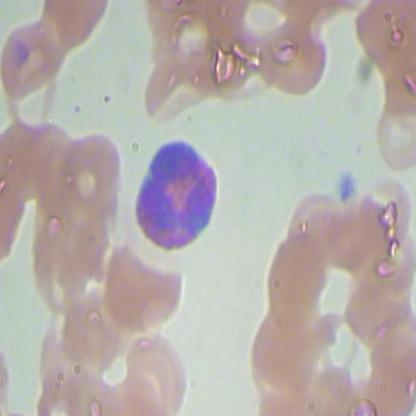Platelets: (329, 166, 358, 201)
RBC: (97, 244, 192, 335), (257, 14, 333, 102), (341, 265, 415, 354), (263, 224, 327, 321), (247, 302, 311, 399), (124, 320, 189, 415), (25, 213, 89, 309), (59, 125, 125, 216), (1, 51, 66, 142), (1, 10, 66, 101), (368, 83, 415, 173), (136, 62, 206, 120), (356, 347, 415, 415), (42, 1, 105, 52), (304, 359, 361, 415)
WBC: (130, 131, 231, 263)
